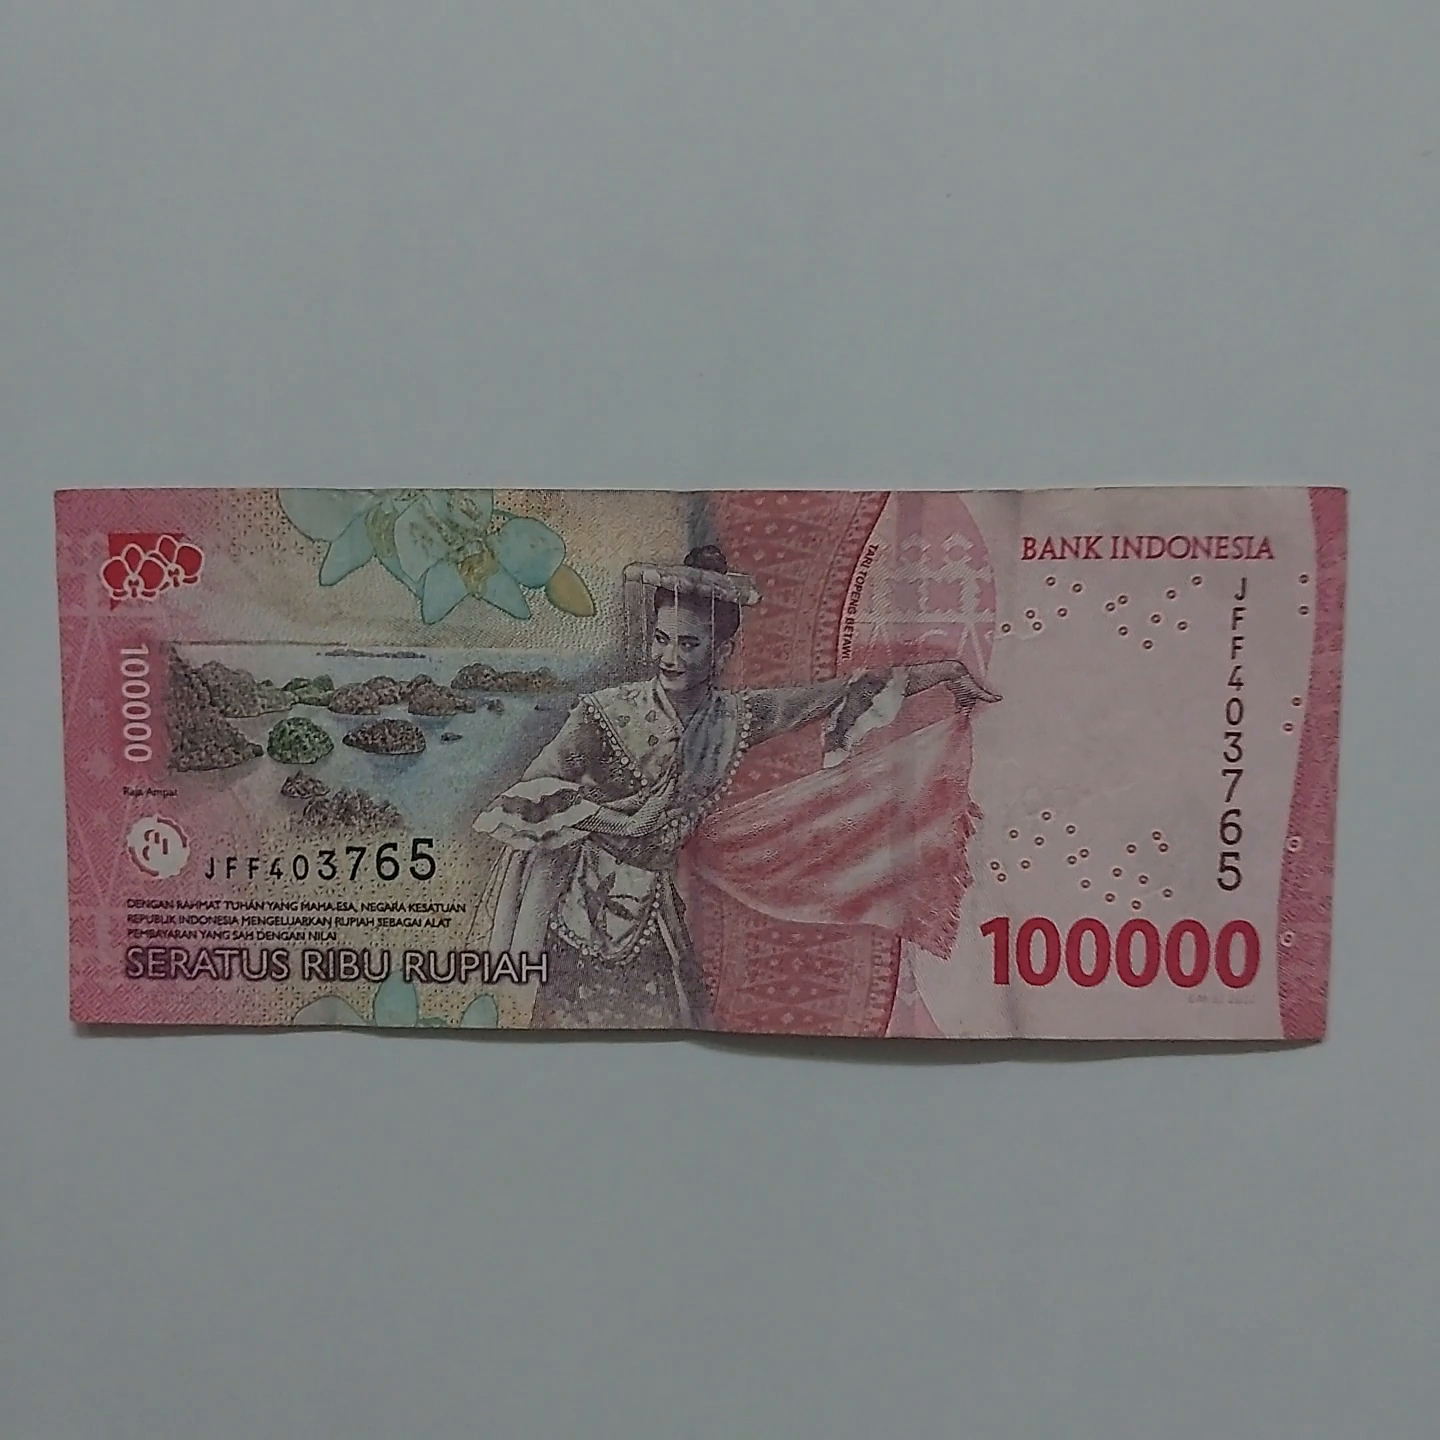100k: (53, 479, 1349, 1058)
